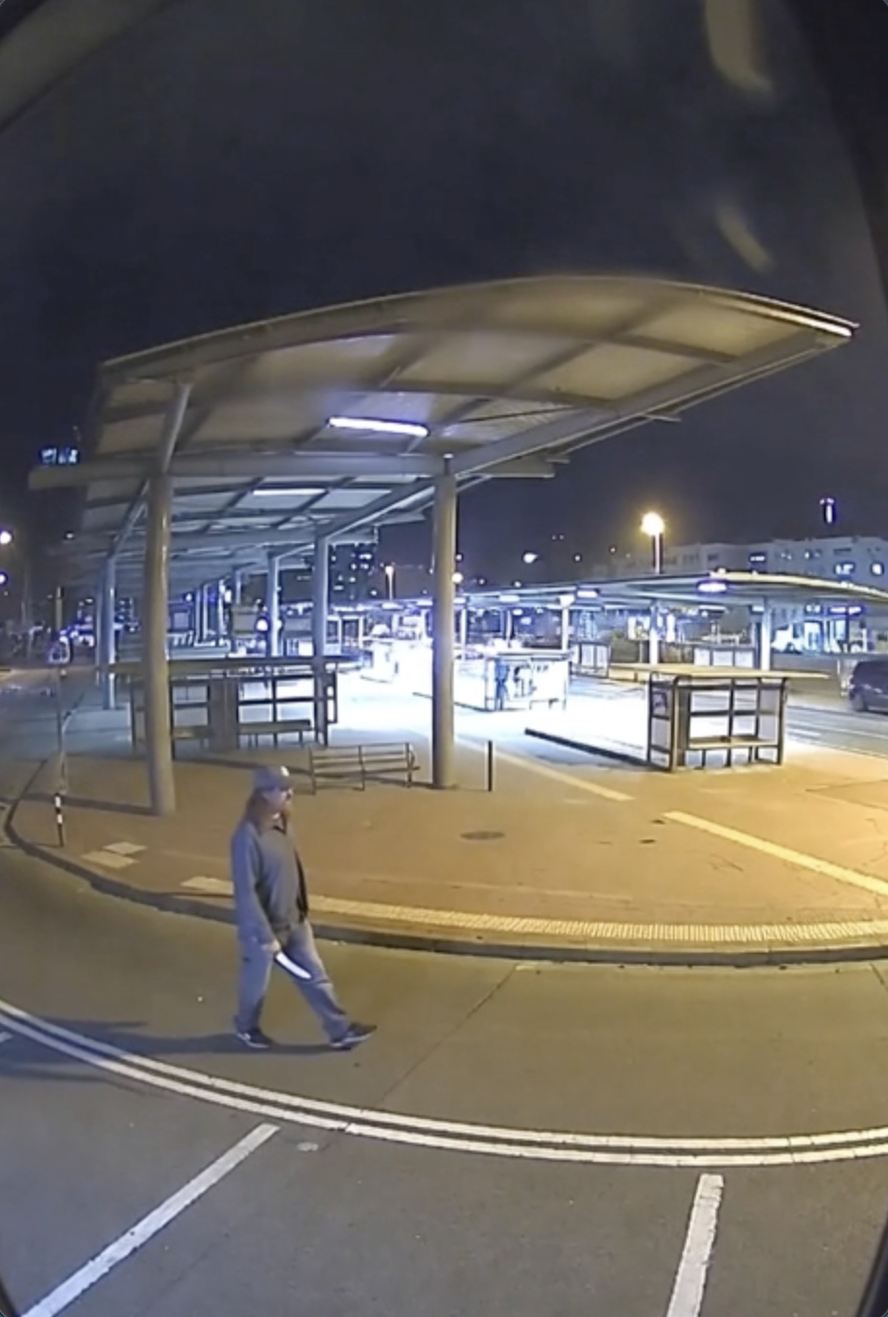Heavy Gun: (225, 760, 377, 1055)
Knife: (258, 933, 315, 979)
